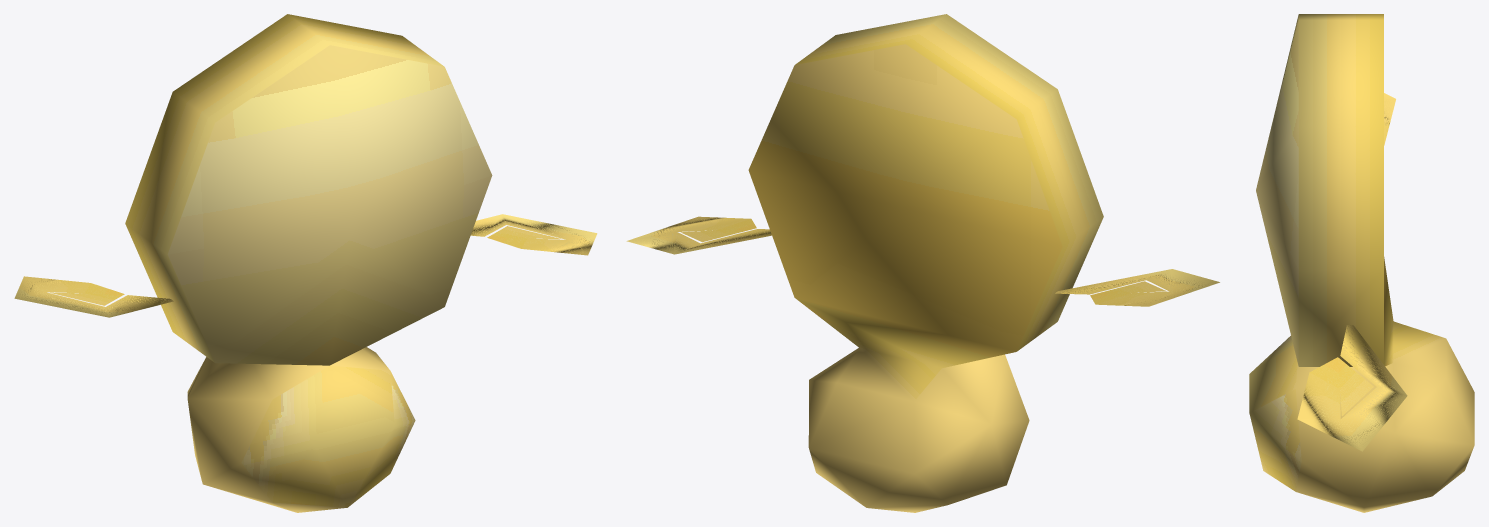
The model's file is Rotom_Spin.obj.
3 views of the same model, side by side, from view 1: azimuth 30°, elevation 25°; view 2: azimuth 150°, elevation 25°; view 3: azimuth 270°, elevation 25° (orthographic). The views are drawn at different scales.
Parts seen in each view (by area): view 1: merged_0_0_node; view 2: merged_0_0_node; view 3: merged_0_0_node.
Part boxes in pixels (box(x1,y1,x2,y2)): merged_0_0_node: box(14, 14, 597, 512); merged_0_0_node: box(626, 14, 1219, 512); merged_0_0_node: box(1249, 14, 1474, 512).
Size of the model in its own units: 1.09 by 0.8517 by 0.3526.
